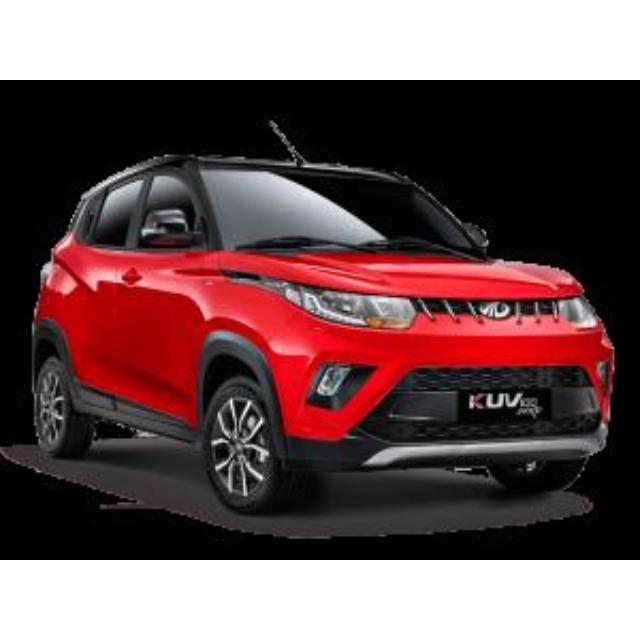car: (28, 159, 614, 511)
plate: (454, 364, 578, 438)
